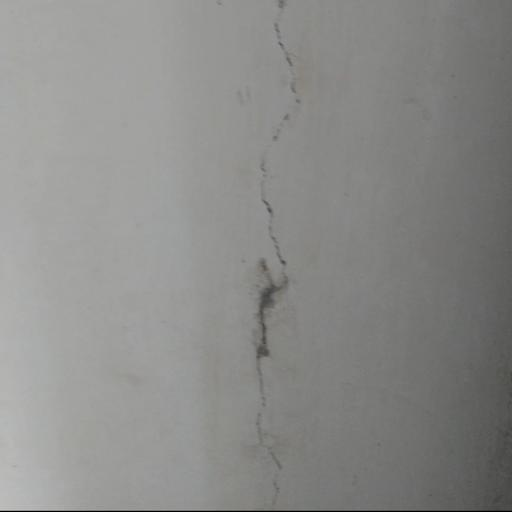minor_crack: (244, 0, 319, 512)
